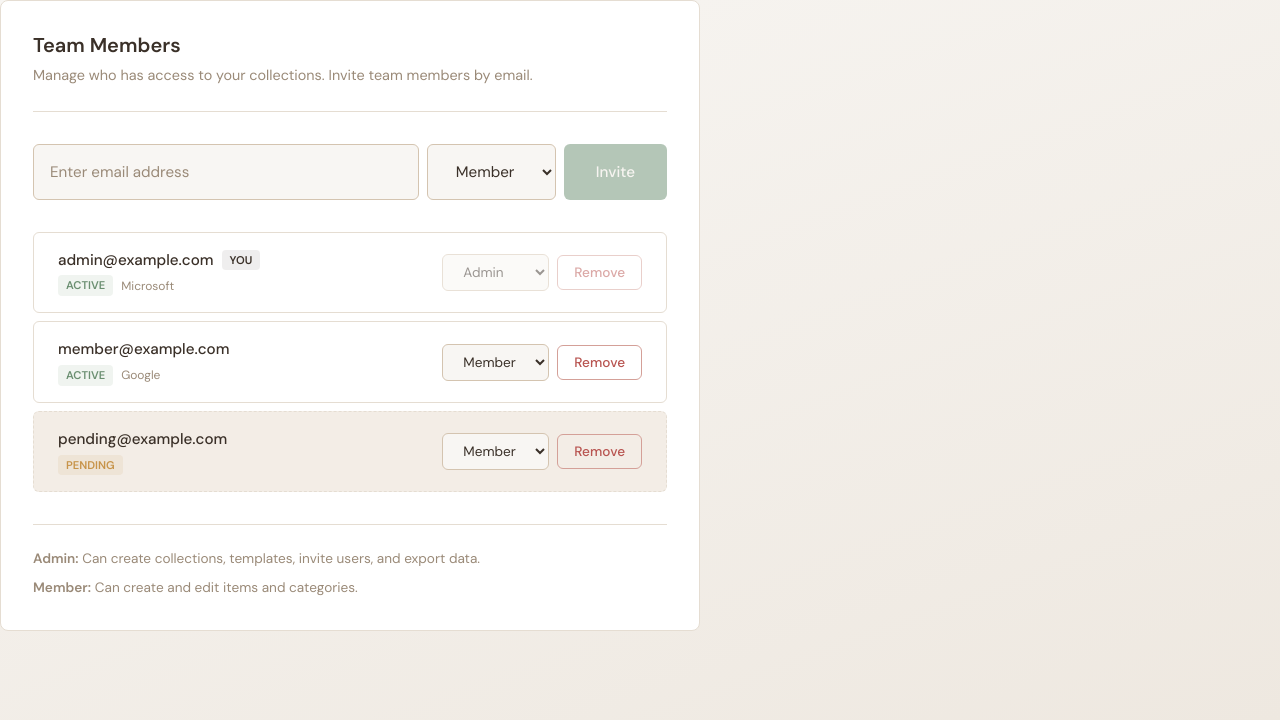
Scenario: UserManagement › invite user › should show error when invite fails
Type "existing@example.com" into the field with placeholder "Enter email address". click: x=226, y=172
box: top-left (33, 144), bottom-right (419, 200)
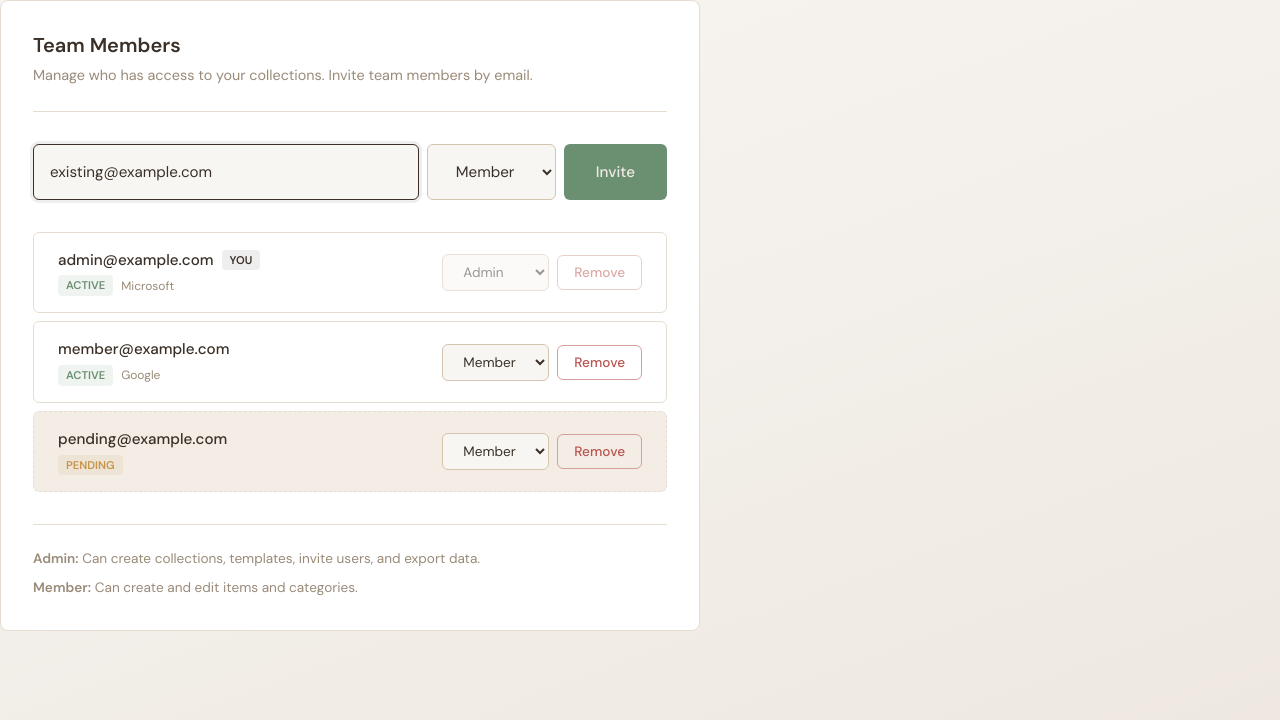
Click the button "Invite". click: x=615, y=172
box: top-left (564, 144), bottom-right (667, 200)
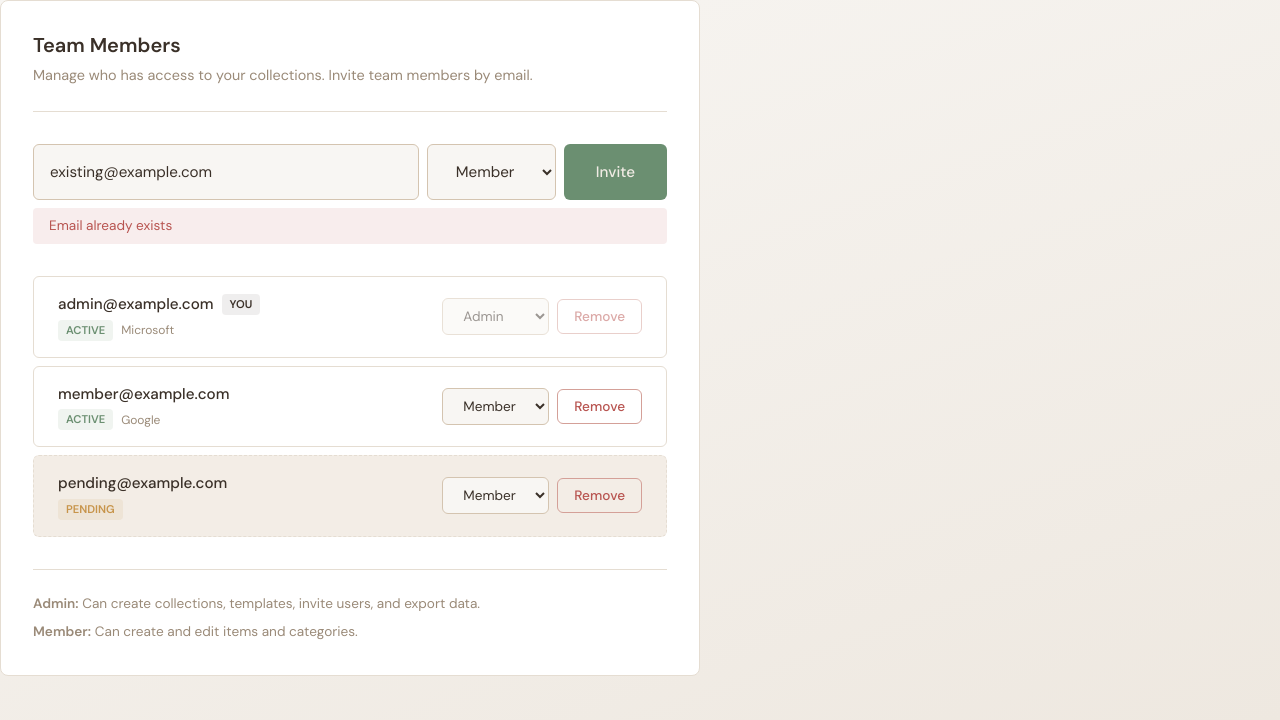
Expected: the text "Email already exists" is shown, top-left (33, 208), bottom-right (667, 244)
